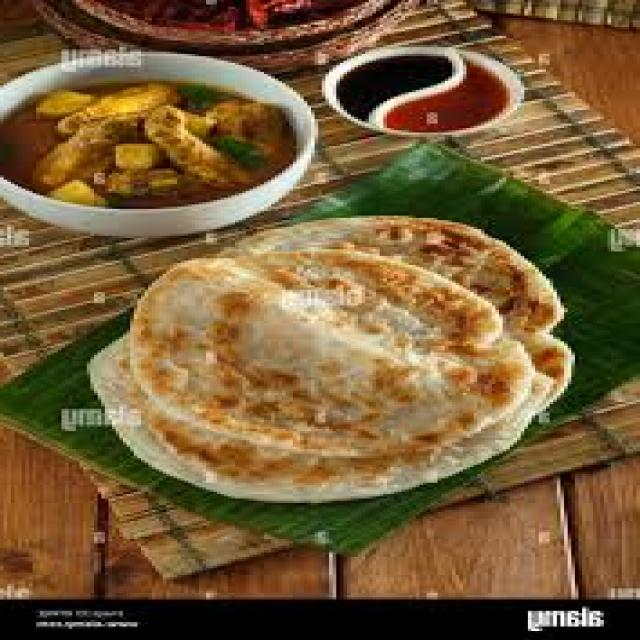Paratha: (92, 196, 584, 518)
